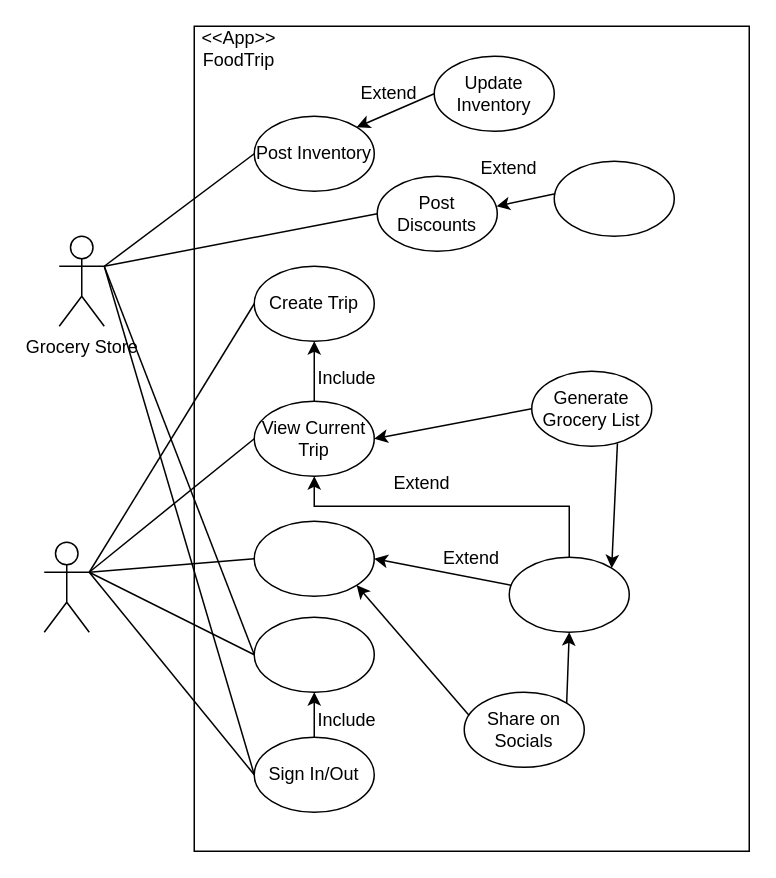
Some shapes in this 776 by 878 pixel diagram are drawn without their labels. The shapes that lost their labels are listed below. From the top down, each one's box as (x1, y1, x2, y2) in pixels, then its label:
(553, 160, 674, 236): Update Discounts
(253, 520, 374, 596): View Past Routes
(43, 541, 89, 632): App User
(508, 556, 629, 632): View Recipe
(253, 616, 374, 692): Create Account
